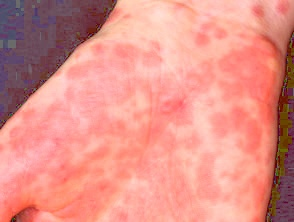SJS-TEN: (0, 4, 291, 222)
